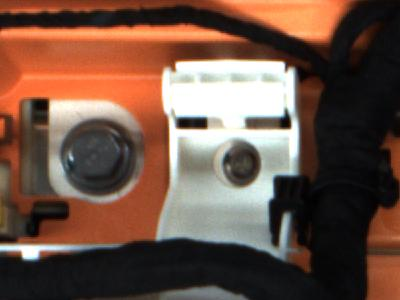nut_b: (55, 120, 139, 198)
